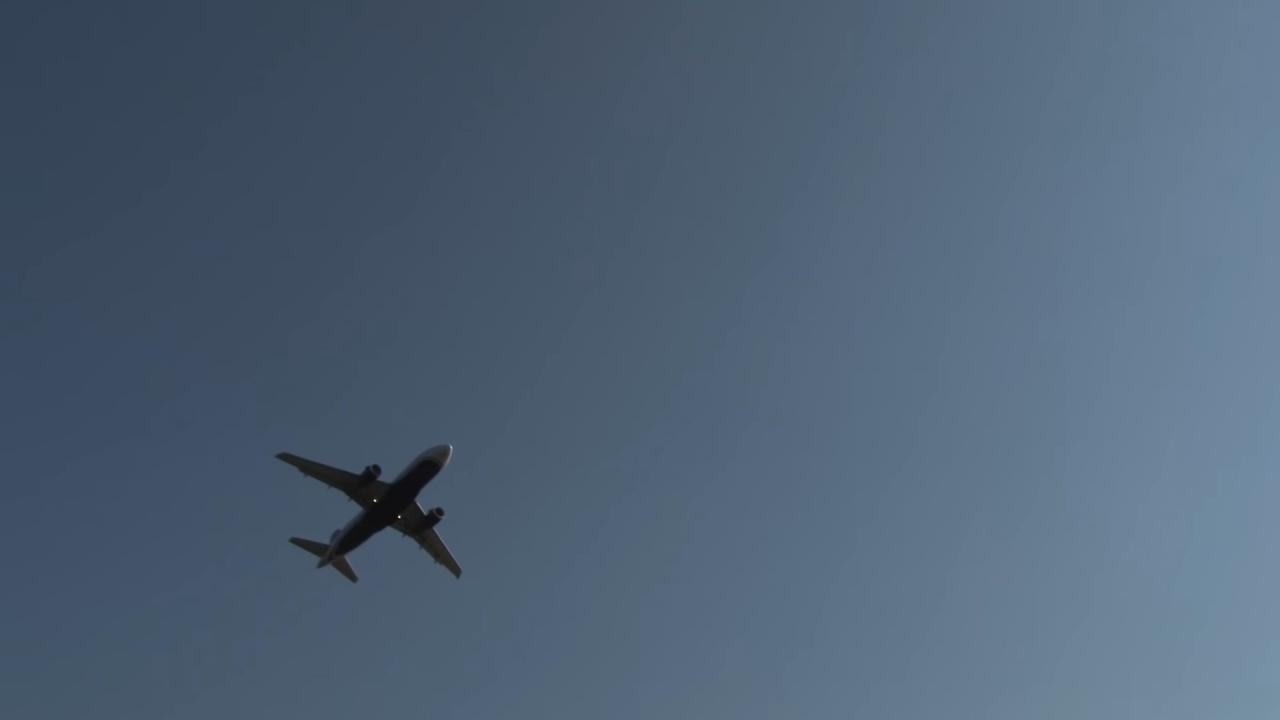Airplane: (264, 428, 481, 596)
